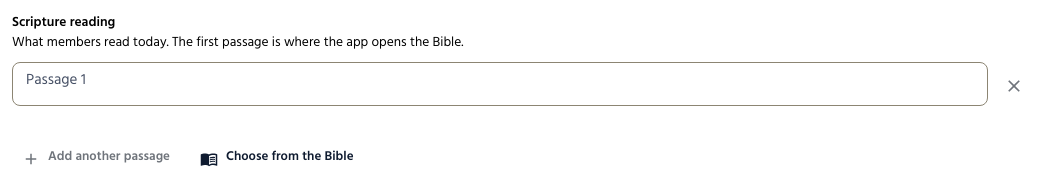
Test case: PassageListField › shows how many verses a good passage is, and that the app can open it
In the field with test id "day-passage-0": coordinates (500, 84) [12,64,988,103], type "John 3:16-21"
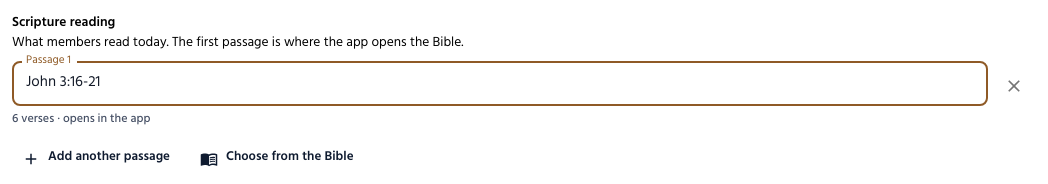
expect the text "6 verses · opens in the app" is shown: met, box [12,109,150,131]
